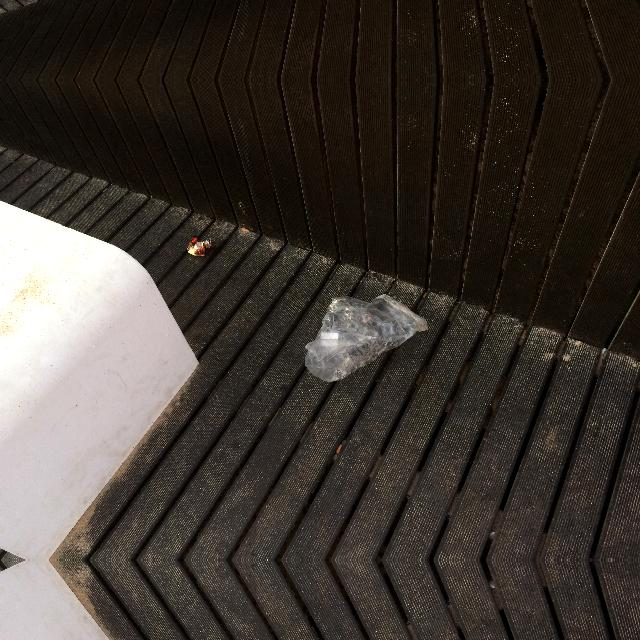Plastic: (289, 284, 441, 396)
